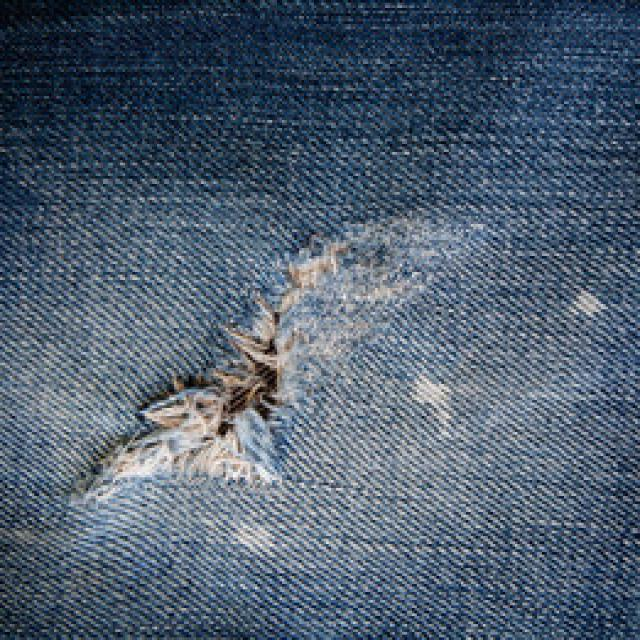Hole: (69, 217, 437, 511)
